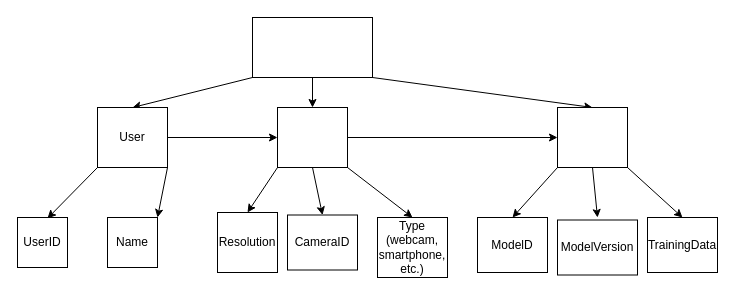
This 735x295 diagram has some shape labels left out. Here are the shapes that lost their labels. From the top down, the box of each, then its label:
(252, 16, 372, 78): Entities
(276, 106, 348, 168): Camera
(556, 106, 628, 168): Sign Language Interpreter Model
